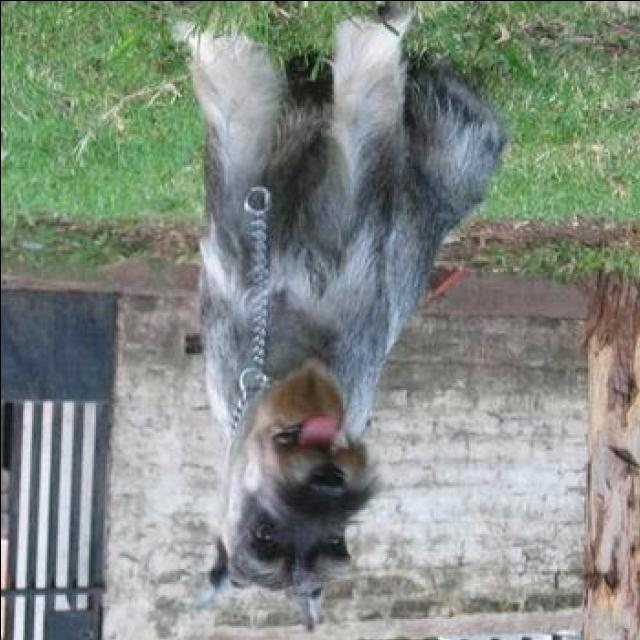standard_schnauzer: (161, 8, 508, 634)
